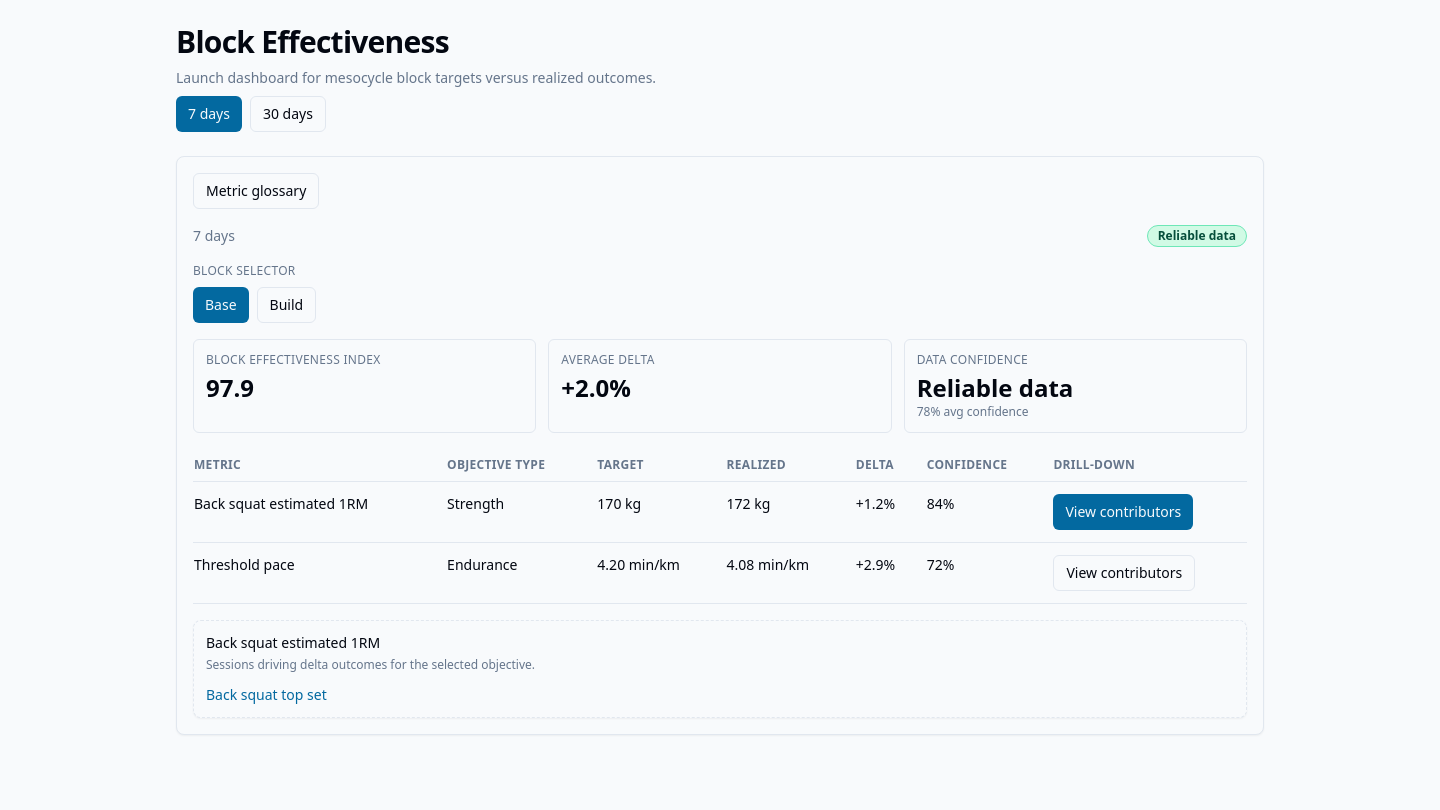
BlockEffectivenessDashboard › shows contributor drill-down links for selected metric rows
Click the button with aria-label "View contributors for Threshold pace" at coordinates (1124, 573), box [1053,555,1195,591]
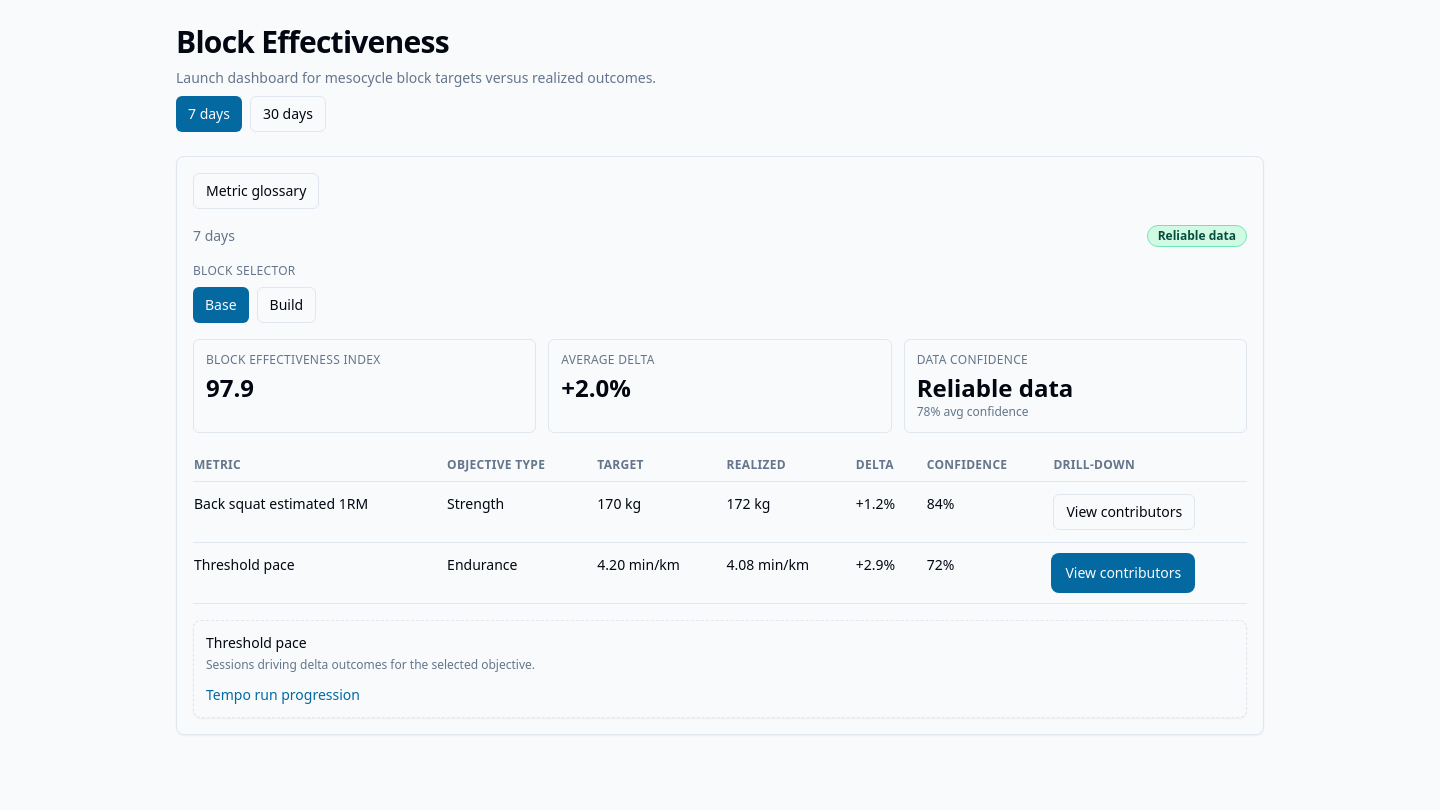
Now the link "Tempo run progression" has attribute href="/sessions/be-2", box [206,685,360,704]
Click the button with aria-label "Block Build" at coordinates (286, 305), box [257,287,316,323]
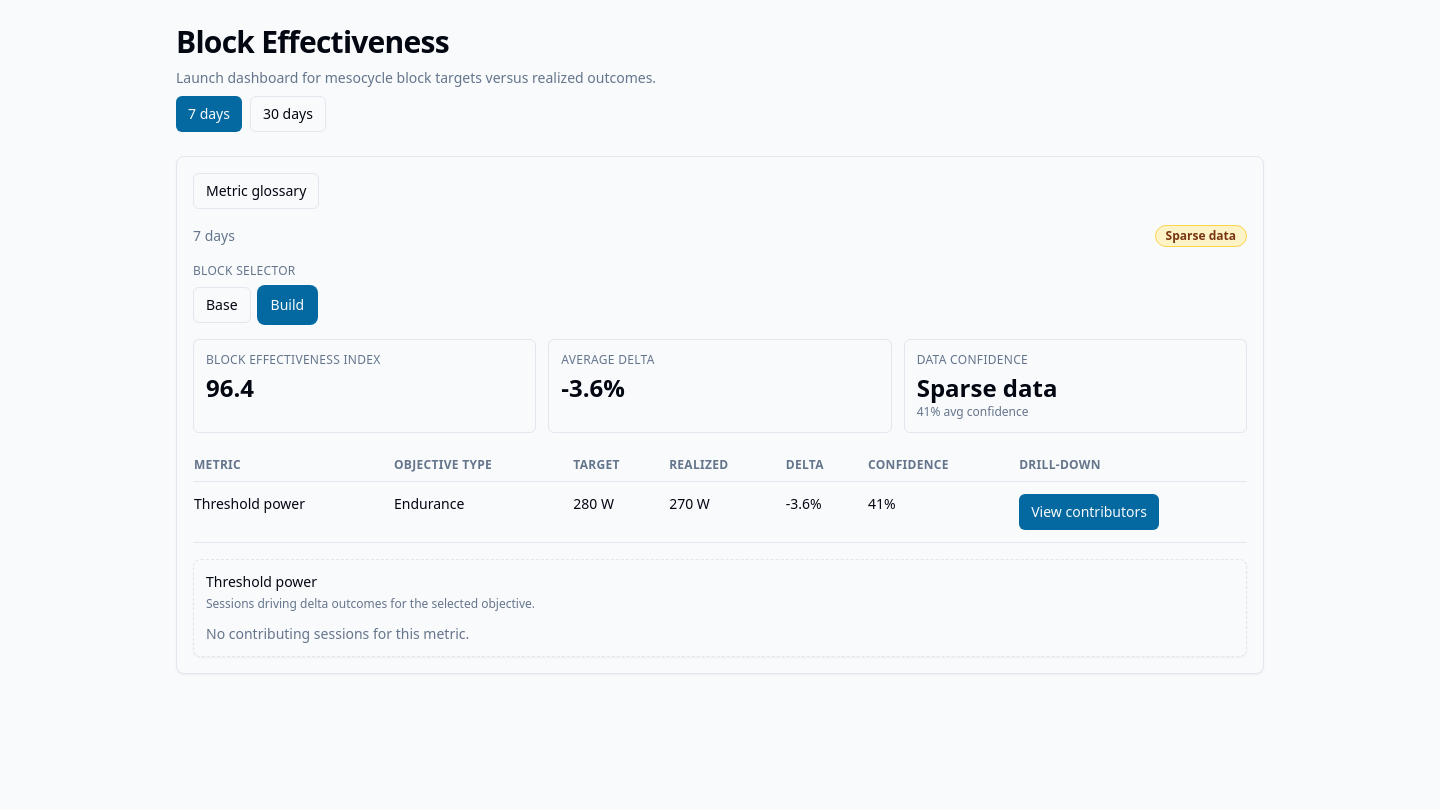
Now the text "No contributing sessions for this metric." is shown, box [206,624,469,643]
